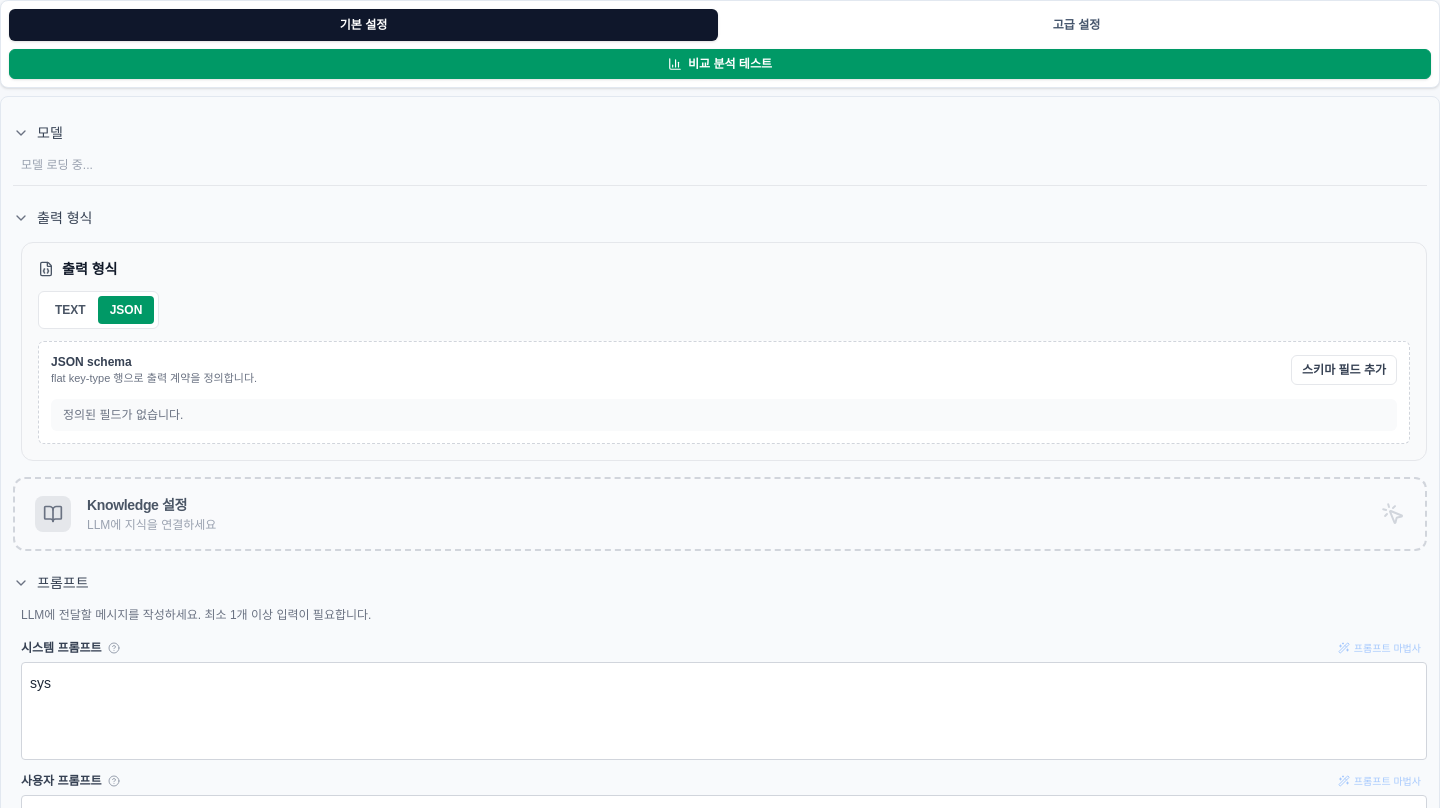
Test case: LLMNodePanel JSON schema editor › 스키마 필드 추가는 빈 필드 행을 화면에 유지하고 저장 schema에는 빈 key를 넣지 않는다
The image size is (1440, 808).
Click the button "스키마 필드 추가": (1344, 370) [1291,355,1397,385]
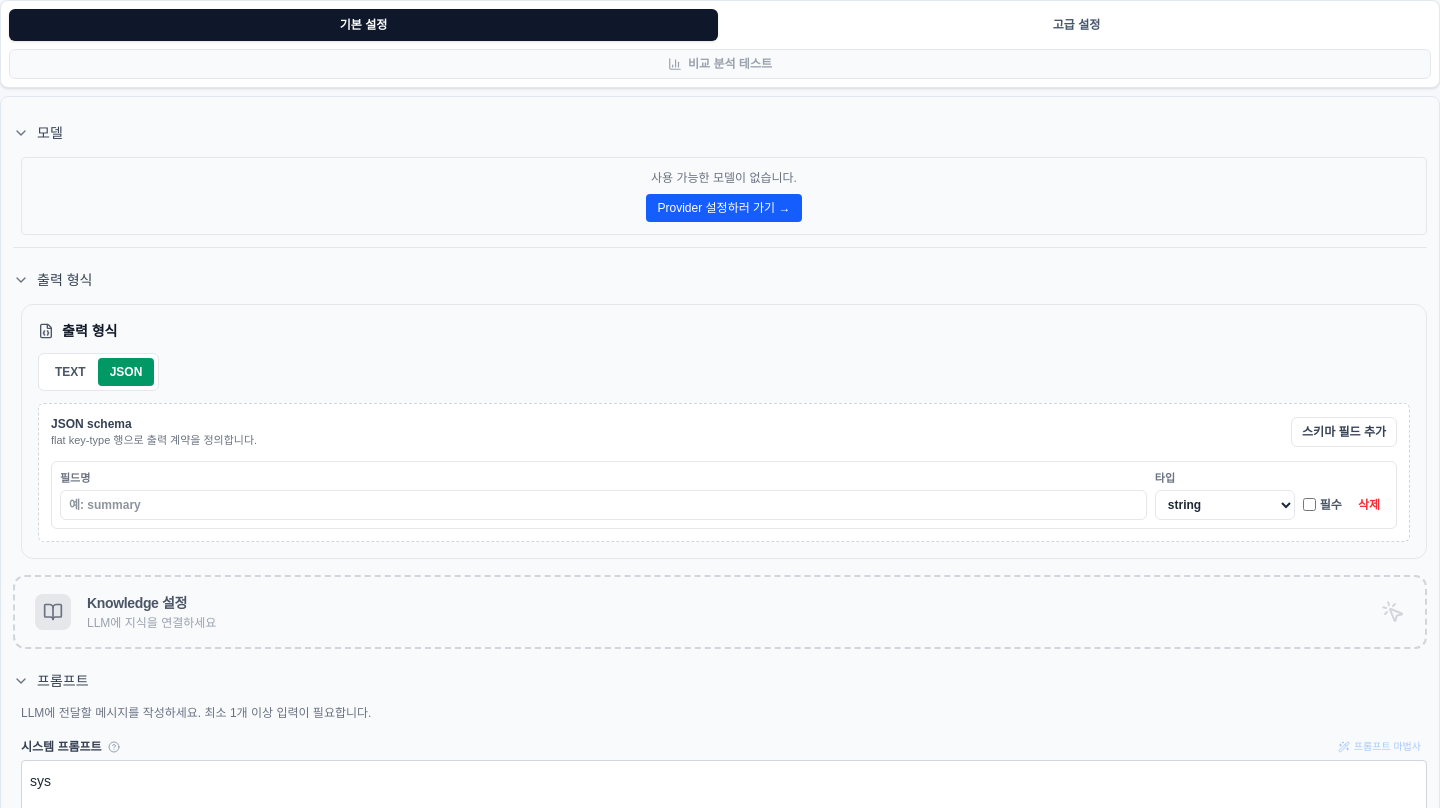
Now the field with placeholder "예: summary" is shown, box [60,490,1147,520]
